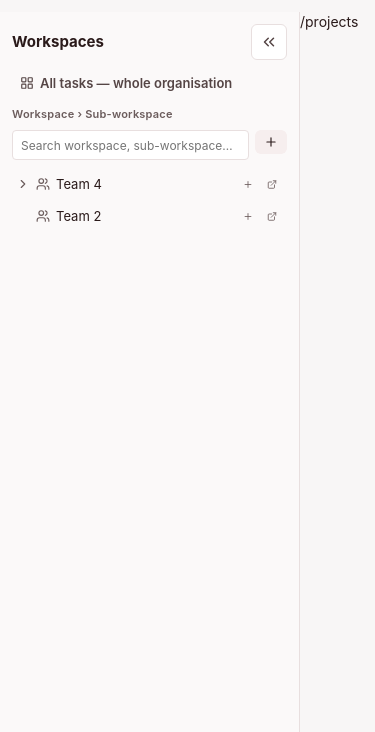
Scenario: Projects tree: Workspace > Sub-workspace, each opening its tasks › finds a sub-workspace by name
The image size is (375, 732).
Type "acme" into the field named "Search workspaces and sub-workspaces" at {"x": 130, "y": 145}, box [12, 130, 249, 160]
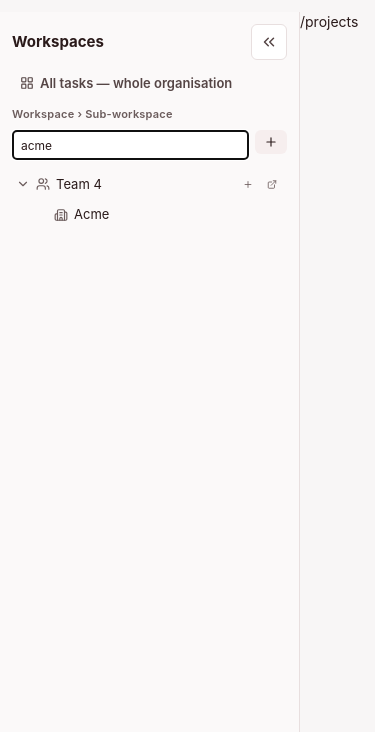
Expected: the text "Acme" is shown, [74, 205, 109, 224]
